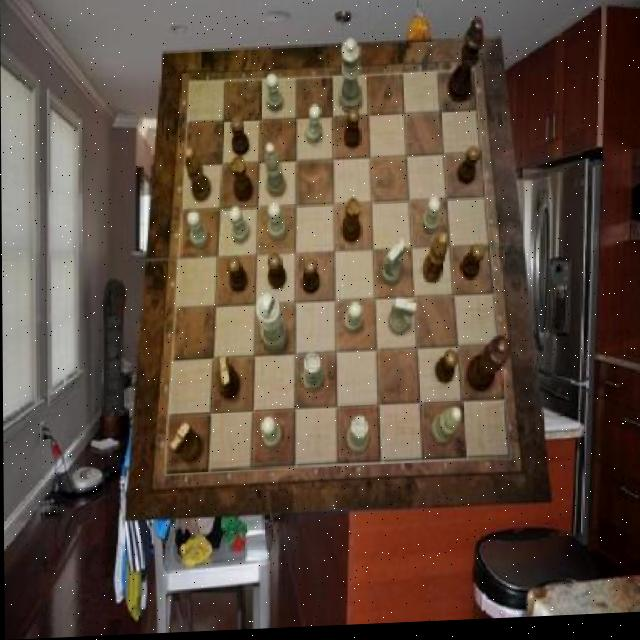bishop: (185, 148, 212, 203), (421, 235, 448, 287)
black-bishop: (448, 22, 485, 107)
black-king: (168, 422, 202, 465), (217, 358, 240, 401)
black-knight: (458, 149, 481, 188), (460, 248, 484, 283), (435, 353, 458, 388), (230, 119, 249, 158), (228, 259, 248, 294), (268, 255, 287, 291), (344, 112, 360, 153), (302, 261, 320, 296)
black-pawn: (467, 339, 512, 395)
black-queen: (230, 157, 253, 204), (341, 200, 360, 246)
black-rook: (265, 145, 287, 201), (430, 410, 460, 449)
white-bishop: (255, 295, 287, 354)
white-king: (380, 241, 406, 288), (388, 301, 416, 339)
white-knight: (187, 212, 208, 250), (229, 210, 250, 247), (261, 418, 282, 451), (423, 200, 441, 237), (267, 76, 284, 115), (305, 107, 321, 148), (268, 205, 285, 243), (344, 304, 361, 336)
white-pawn: (340, 41, 364, 116)
white-queen: (300, 357, 323, 396), (346, 418, 369, 456)
